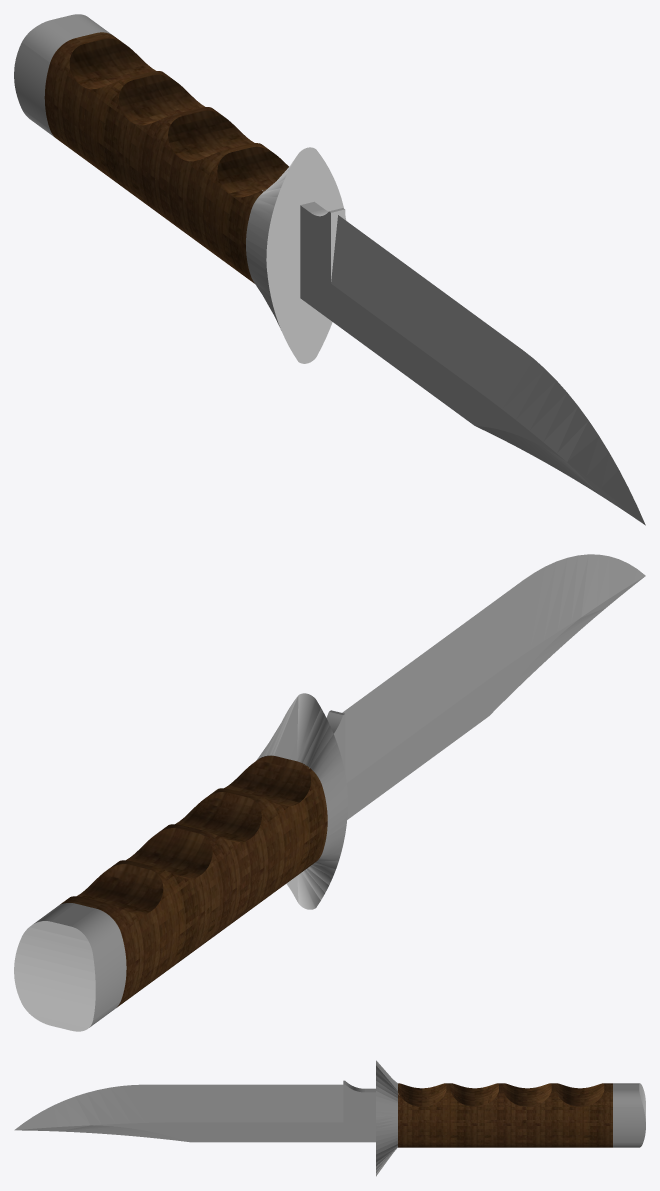
The model's file is model_scale.obj.
3 renders of one model, top to bottom at view 1: azimuth 30°, elevation 25°; view 2: azimuth 150°, elevation 25°; view 3: azimuth 270°, elevation 25°, orthographic. The views are drawn at different scales.
Parts seen in each view (by area): view 1: mesh1_mesh1-geometry, mesh3_mesh3-geometry, mesh2_mesh2-geometry, mesh4_mesh4-geometry; view 2: mesh3_mesh3-geometry, mesh1_mesh1-geometry, mesh4_mesh4-geometry, mesh2_mesh2-geometry; view 3: mesh1_mesh1-geometry, mesh3_mesh3-geometry, mesh4_mesh4-geometry, mesh2_mesh2-geometry.
Boxes of the visible parts, x1,y1,x2,y2 form: mesh1_mesh1-geometry: (300,201,645,525); mesh3_mesh3-geometry: (44,32,288,283); mesh2_mesh2-geometry: (246,147,346,363); mesh4_mesh4-geometry: (14,14,111,137); mesh3_mesh3-geometry: (60,755,327,1007); mesh1_mesh1-geometry: (326,554,645,819); mesh4_mesh4-geometry: (14,903,126,1031); mesh2_mesh2-geometry: (256,693,348,909); mesh1_mesh1-geometry: (14,1080,375,1142); mesh3_mesh3-geometry: (398,1083,612,1147); mesh4_mesh4-geometry: (613,1083,645,1147); mesh2_mesh2-geometry: (376,1060,397,1176).
Size of the model in its own units: 0.0172 by 0.0433 by 0.2148.
3 materials, 1 textured.
